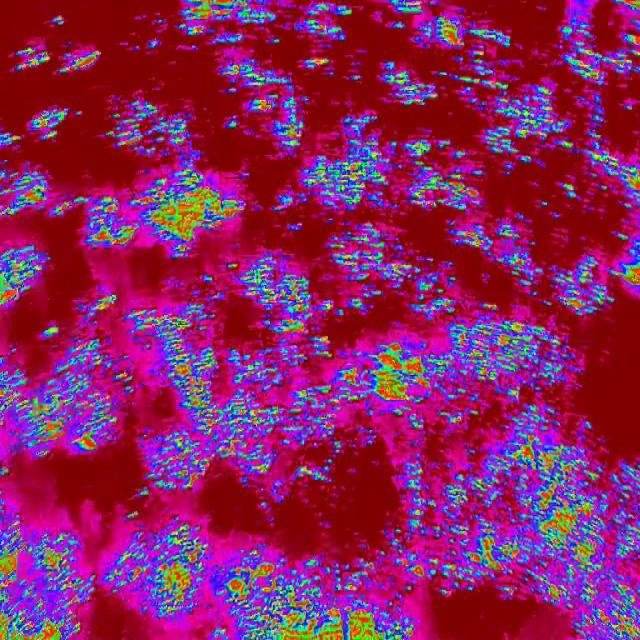fire: (113, 0, 638, 315), (0, 316, 587, 493), (0, 515, 413, 640), (412, 430, 638, 596), (0, 154, 51, 310), (8, 14, 100, 75), (0, 99, 88, 155), (535, 595, 640, 640), (51, 187, 111, 248), (84, 294, 112, 318)
